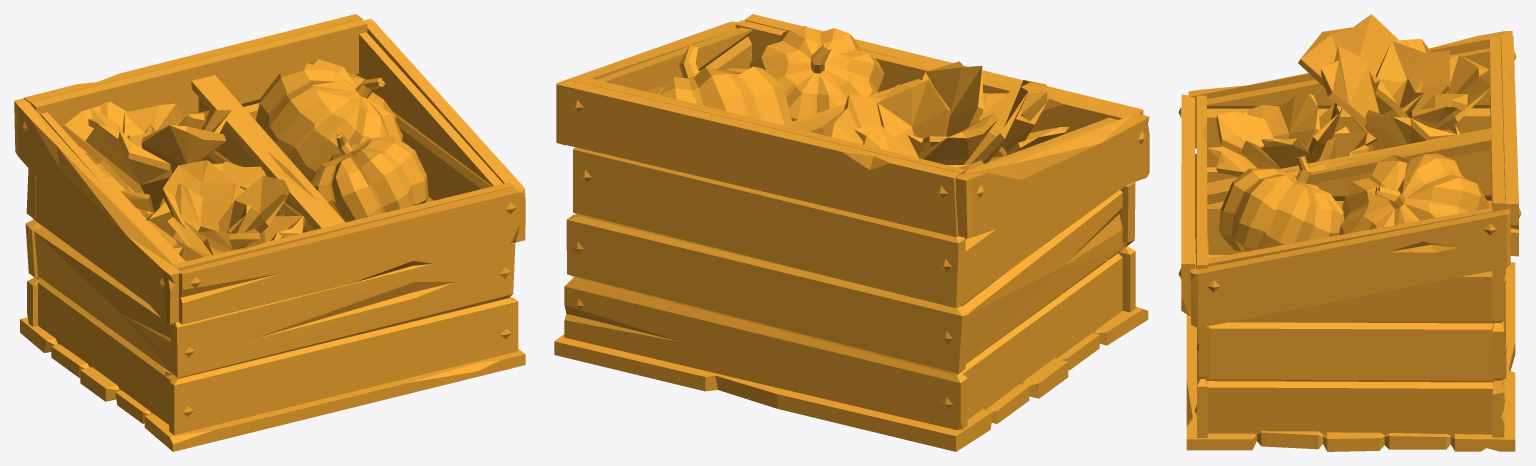
File: SM_Crate_Slanted_Salate_Pumpkin_Fantasy.fbx
The picture shows the model from 3 angles, left to right: view 1: azimuth 30°, elevation 25°; view 2: azimuth 150°, elevation 25°; view 3: azimuth 270°, elevation 25°; orthographic projection. The views are drawn at different scales.
Visible parts, largest first — view 1: crate-slanted-salate-pumpkin-fantasy; view 2: crate-slanted-salate-pumpkin-fantasy; view 3: crate-slanted-salate-pumpkin-fantasy.
Boxes of the visible parts, box(x1,y1,x2,y2) form: crate-slanted-salate-pumpkin-fantasy: box(14, 14, 525, 451); crate-slanted-salate-pumpkin-fantasy: box(554, 14, 1149, 451); crate-slanted-salate-pumpkin-fantasy: box(1178, 14, 1521, 451).
Bounding box in the file's own units: 1.06 × 0.7294 × 0.8418.
